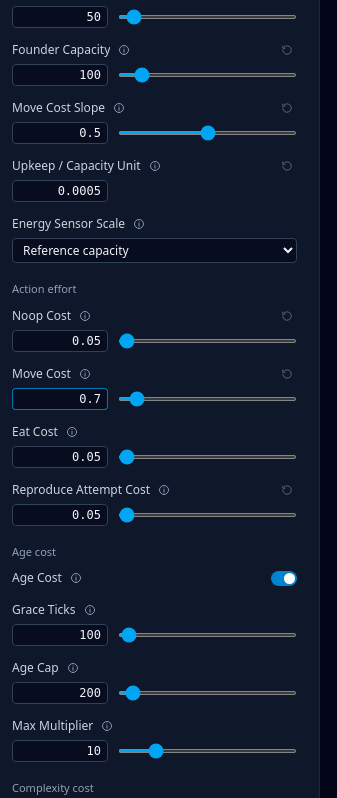
it: ConfigPanel › coverage and editing › shows f32 values as typed and keeps a cleared field
(page scrolled)
Clear the number field with test id "config-field-energy-costs-move-cost" at (60, 399), box [12,388,108,410]
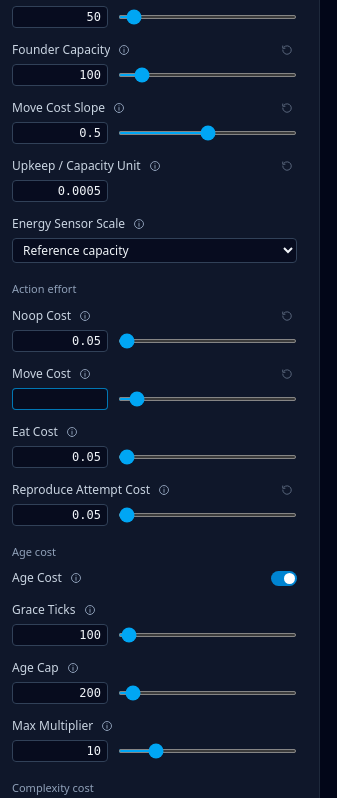
Leave the number field with test id "config-field-energy-costs-move-cost", box [12,388,108,410]
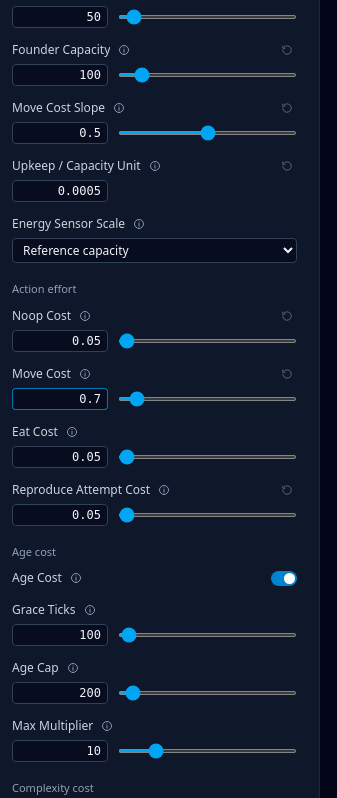
Check: the number field with test id "config-field-energy-costs-move-cost" holds "0.7", box [12,388,108,410]
